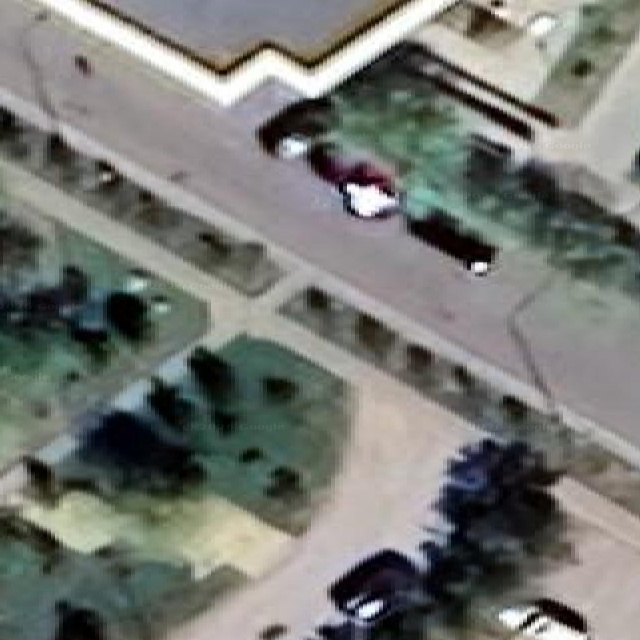car: (256, 98, 402, 218), (307, 143, 402, 218), (430, 72, 532, 140), (327, 550, 420, 624), (408, 209, 495, 275), (420, 527, 480, 611), (447, 439, 543, 491), (256, 98, 331, 158), (463, 127, 531, 192), (497, 597, 590, 639), (337, 161, 400, 218), (492, 440, 552, 487), (433, 484, 495, 524), (464, 132, 512, 183), (339, 179, 396, 218), (55, 600, 105, 639), (307, 143, 351, 187), (396, 43, 446, 79), (419, 519, 455, 563), (447, 460, 491, 492), (467, 132, 512, 163), (417, 527, 452, 564), (457, 436, 502, 457), (316, 620, 352, 639), (95, 160, 120, 186), (259, 623, 287, 639), (0, 108, 16, 135), (75, 54, 91, 75), (635, 148, 639, 172), (444, 522, 447, 523), (471, 195, 472, 196)
